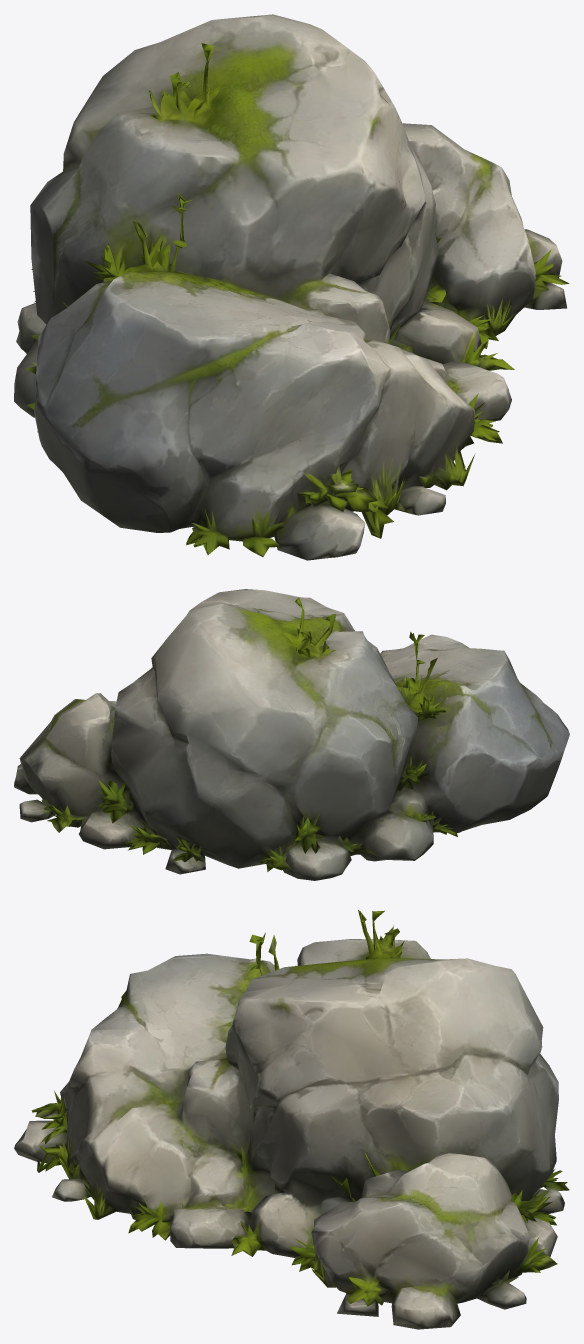
3 views of the same model, one above another, from view 1: azimuth 30°, elevation 25°; view 2: azimuth 150°, elevation 25°; view 3: azimuth 270°, elevation 25° (orthographic). The views are drawn at different scales.
Visible parts, largest first — view 1: tripo_node_f34c3e83-7f0e-47fe-9421-675c04c4f2d6; view 2: tripo_node_f34c3e83-7f0e-47fe-9421-675c04c4f2d6; view 3: tripo_node_f34c3e83-7f0e-47fe-9421-675c04c4f2d6.
Part boxes in pixels (box(x1,y1,x2,y2)): tripo_node_f34c3e83-7f0e-47fe-9421-675c04c4f2d6: box(14, 14, 569, 560); tripo_node_f34c3e83-7f0e-47fe-9421-675c04c4f2d6: box(14, 589, 569, 880); tripo_node_f34c3e83-7f0e-47fe-9421-675c04c4f2d6: box(14, 910, 569, 1329).
Size of the model in its own units: 0.981 by 0.4963 by 0.9066.
Materials: 1 (1 with a texture image).
